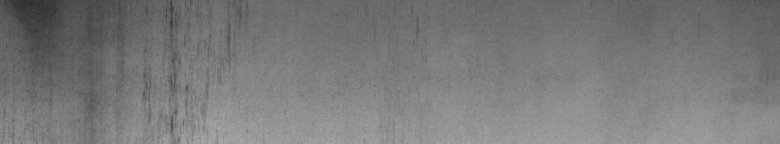ka: (143, 4, 235, 136)
